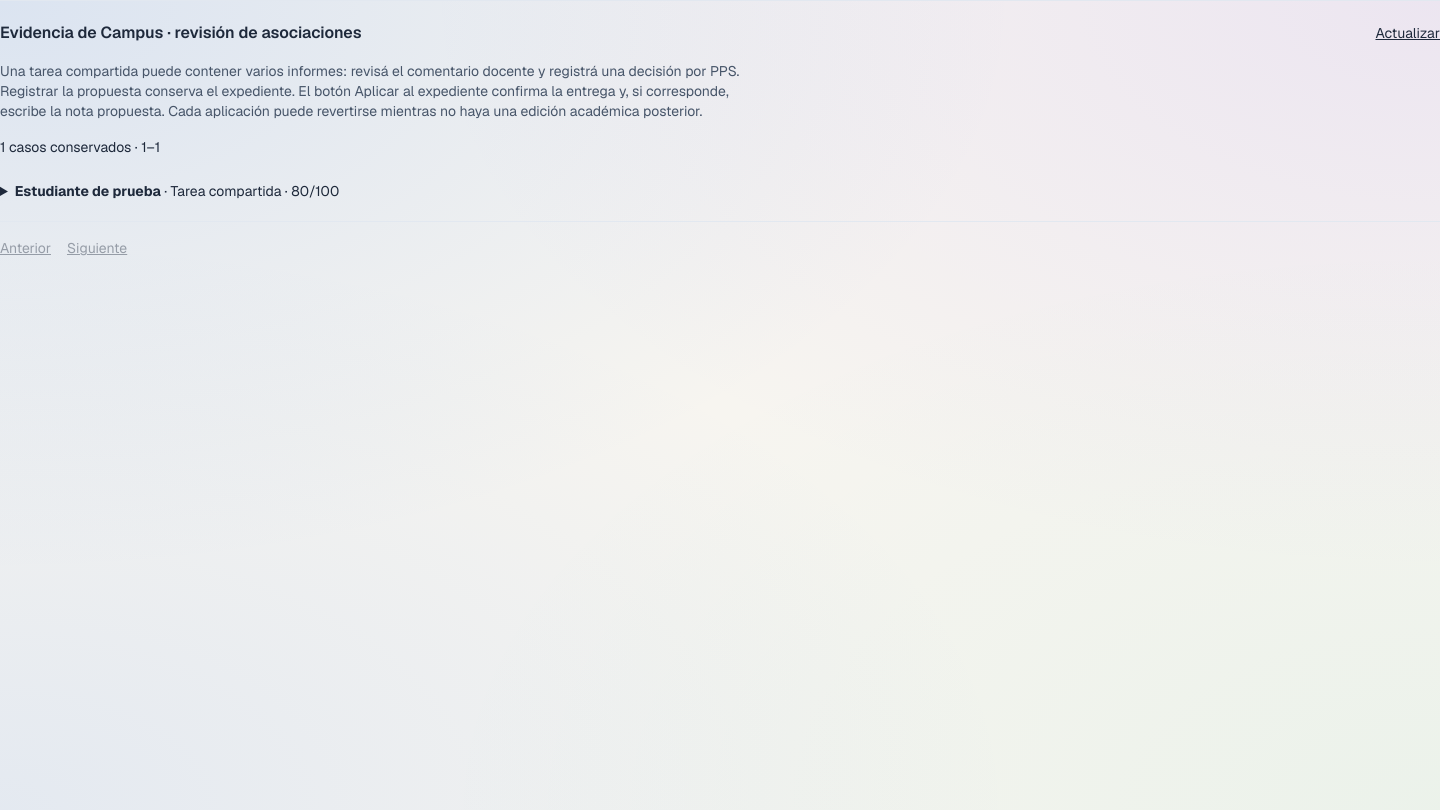
Test case: un conflicto de versión se muestra sin anunciar éxito
The image size is (1440, 810).
Click the text "Estudiante de prueba" at coordinates (88, 191), box 15,182 -> 161,200
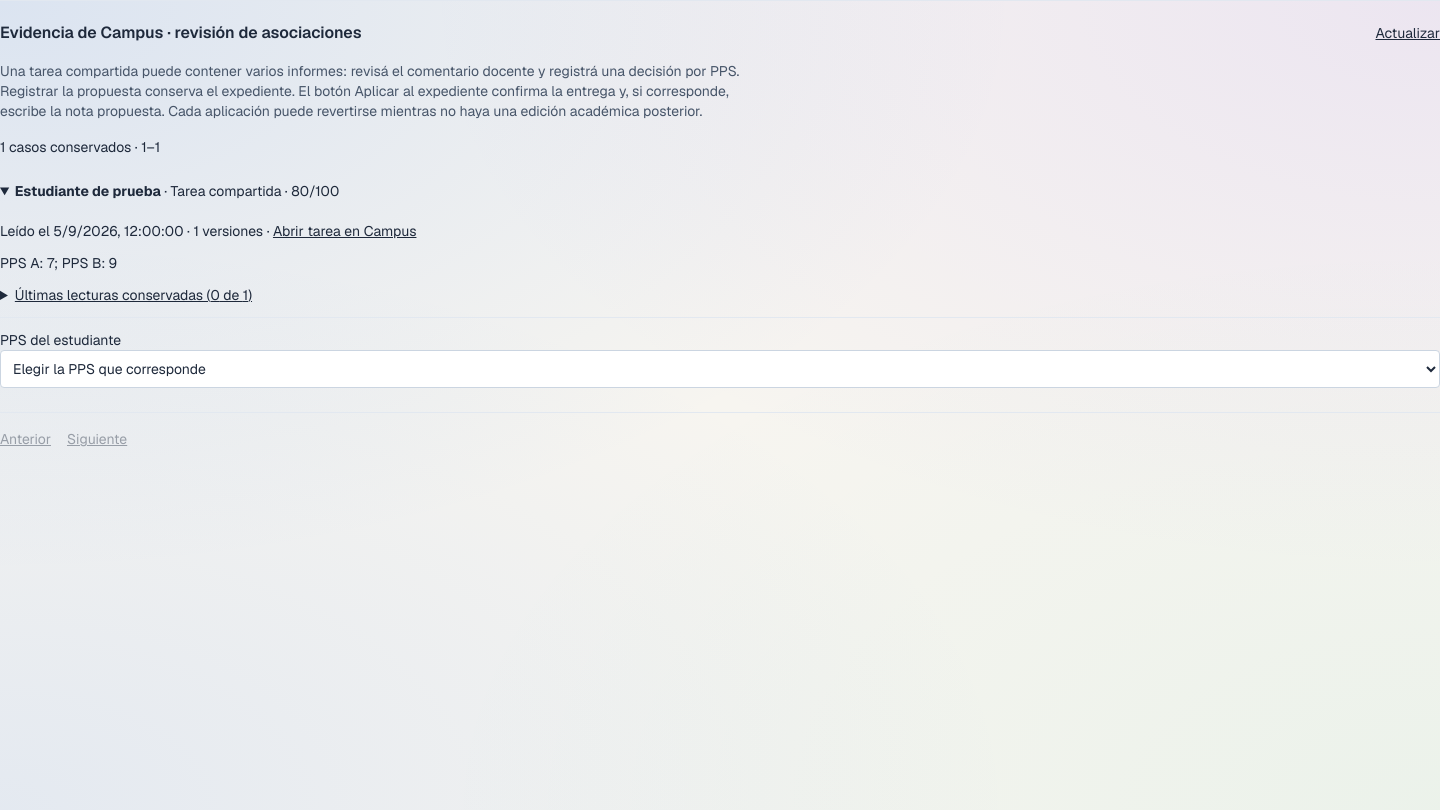
Select "PPS B · Clínica · 2026 · Vínculo confirmado" in the dropdown labelled "PPS del estudiante" at coordinates (720, 369), box 0,350 -> 1439,388
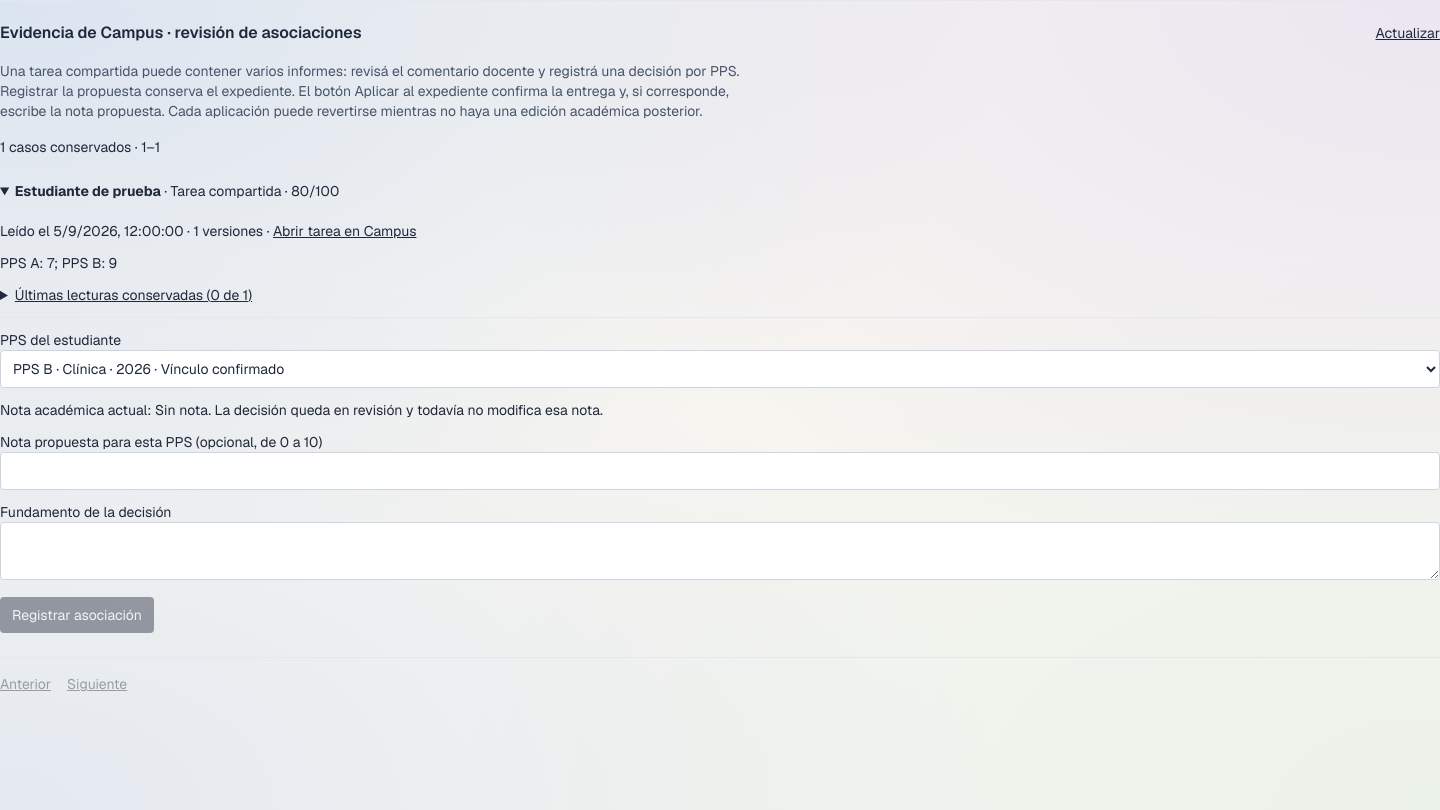
Type "Revisado el comentario para PPS B" into the text box labelled "Fundamento de la decisión" at coordinates (720, 551), box 0,522 -> 1439,580
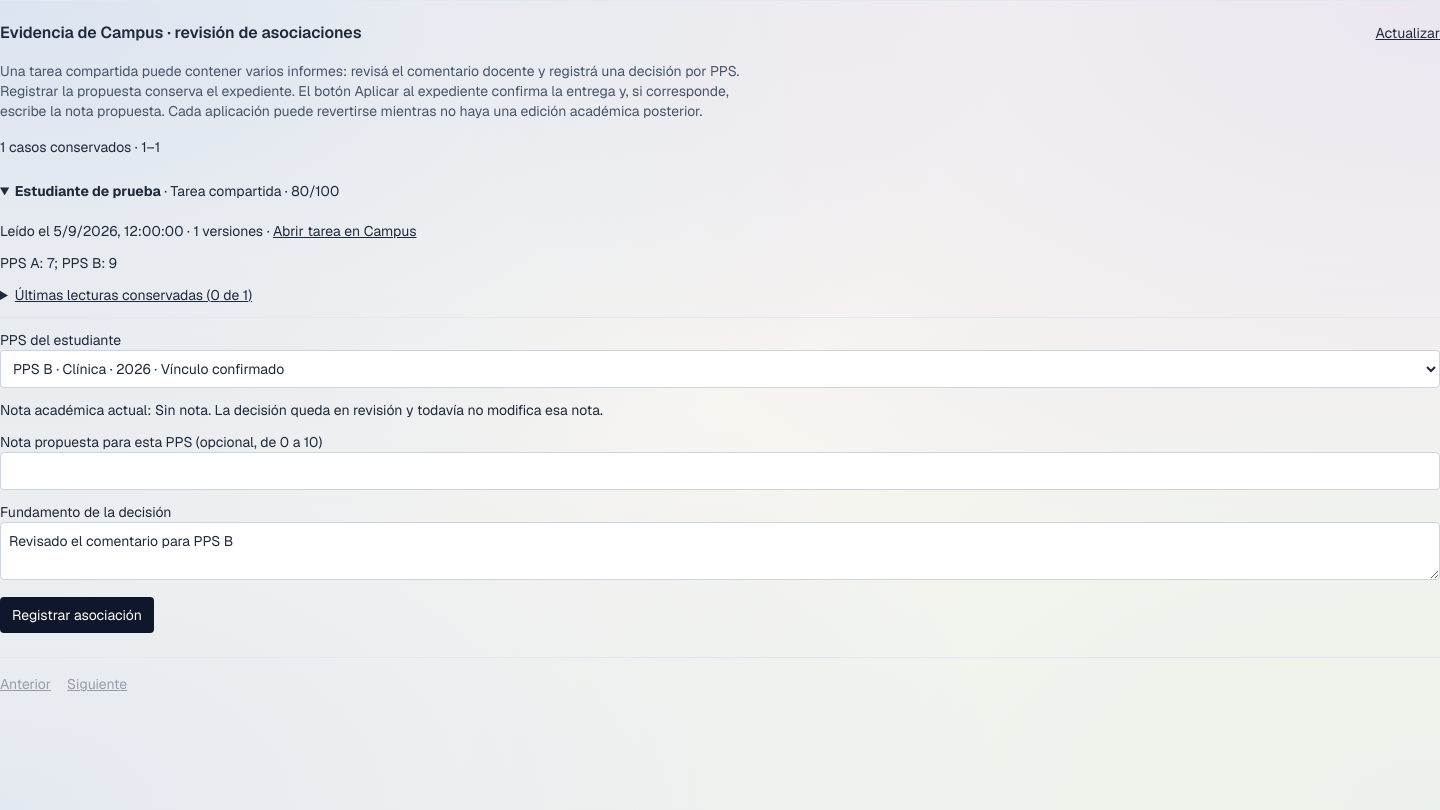
Click the button "Registrar asociación" at coordinates (77, 615), box 0,597 -> 154,633
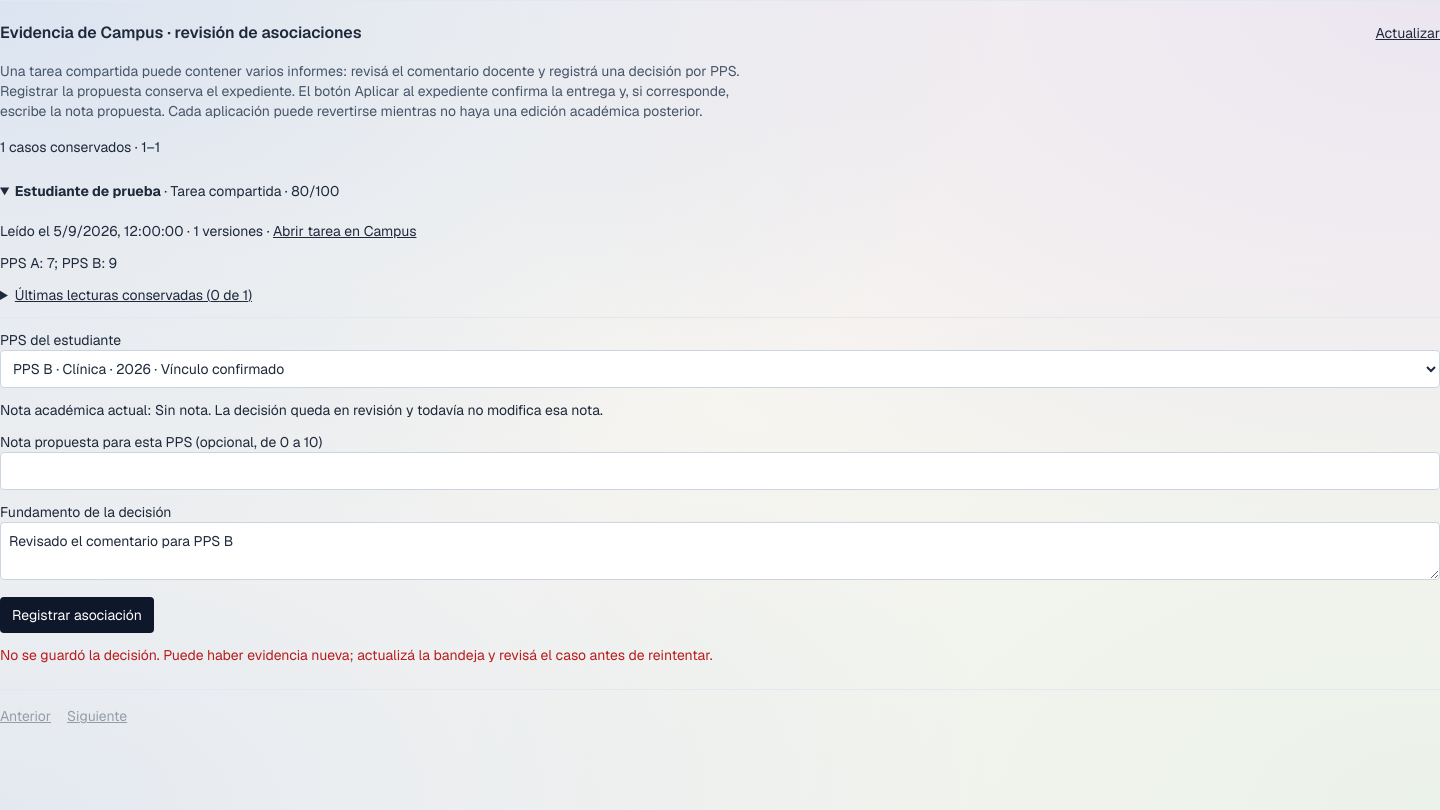
Now the message shows "No se guardó la decisión", box 0,646 -> 712,664
